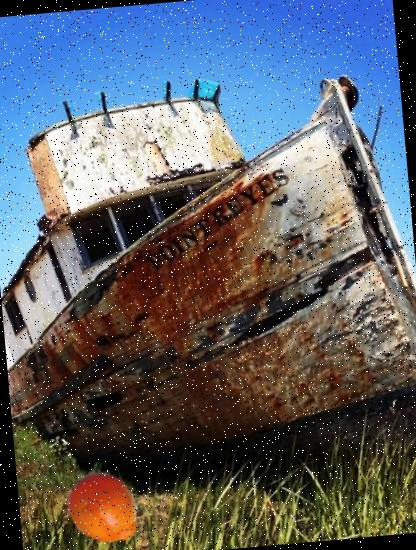Tangelo: (62, 466, 148, 550)
